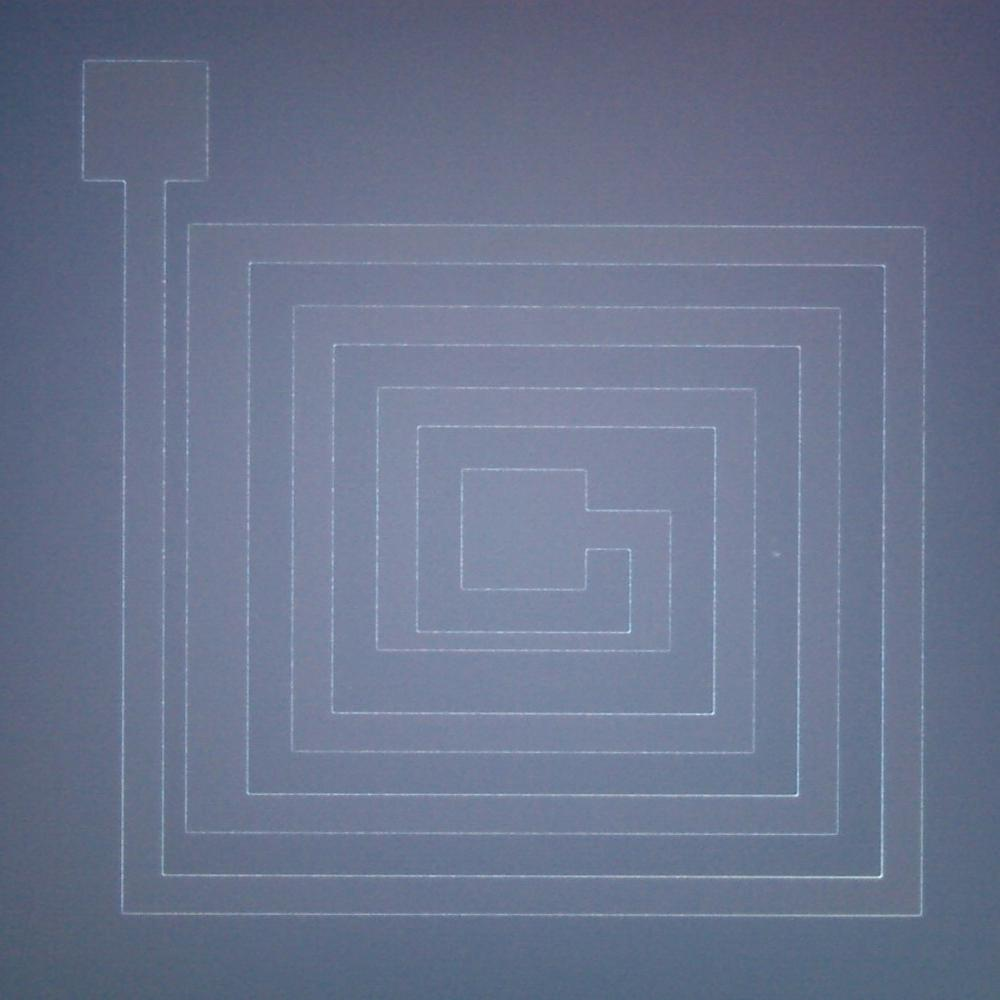dot: (772, 551, 780, 558)
